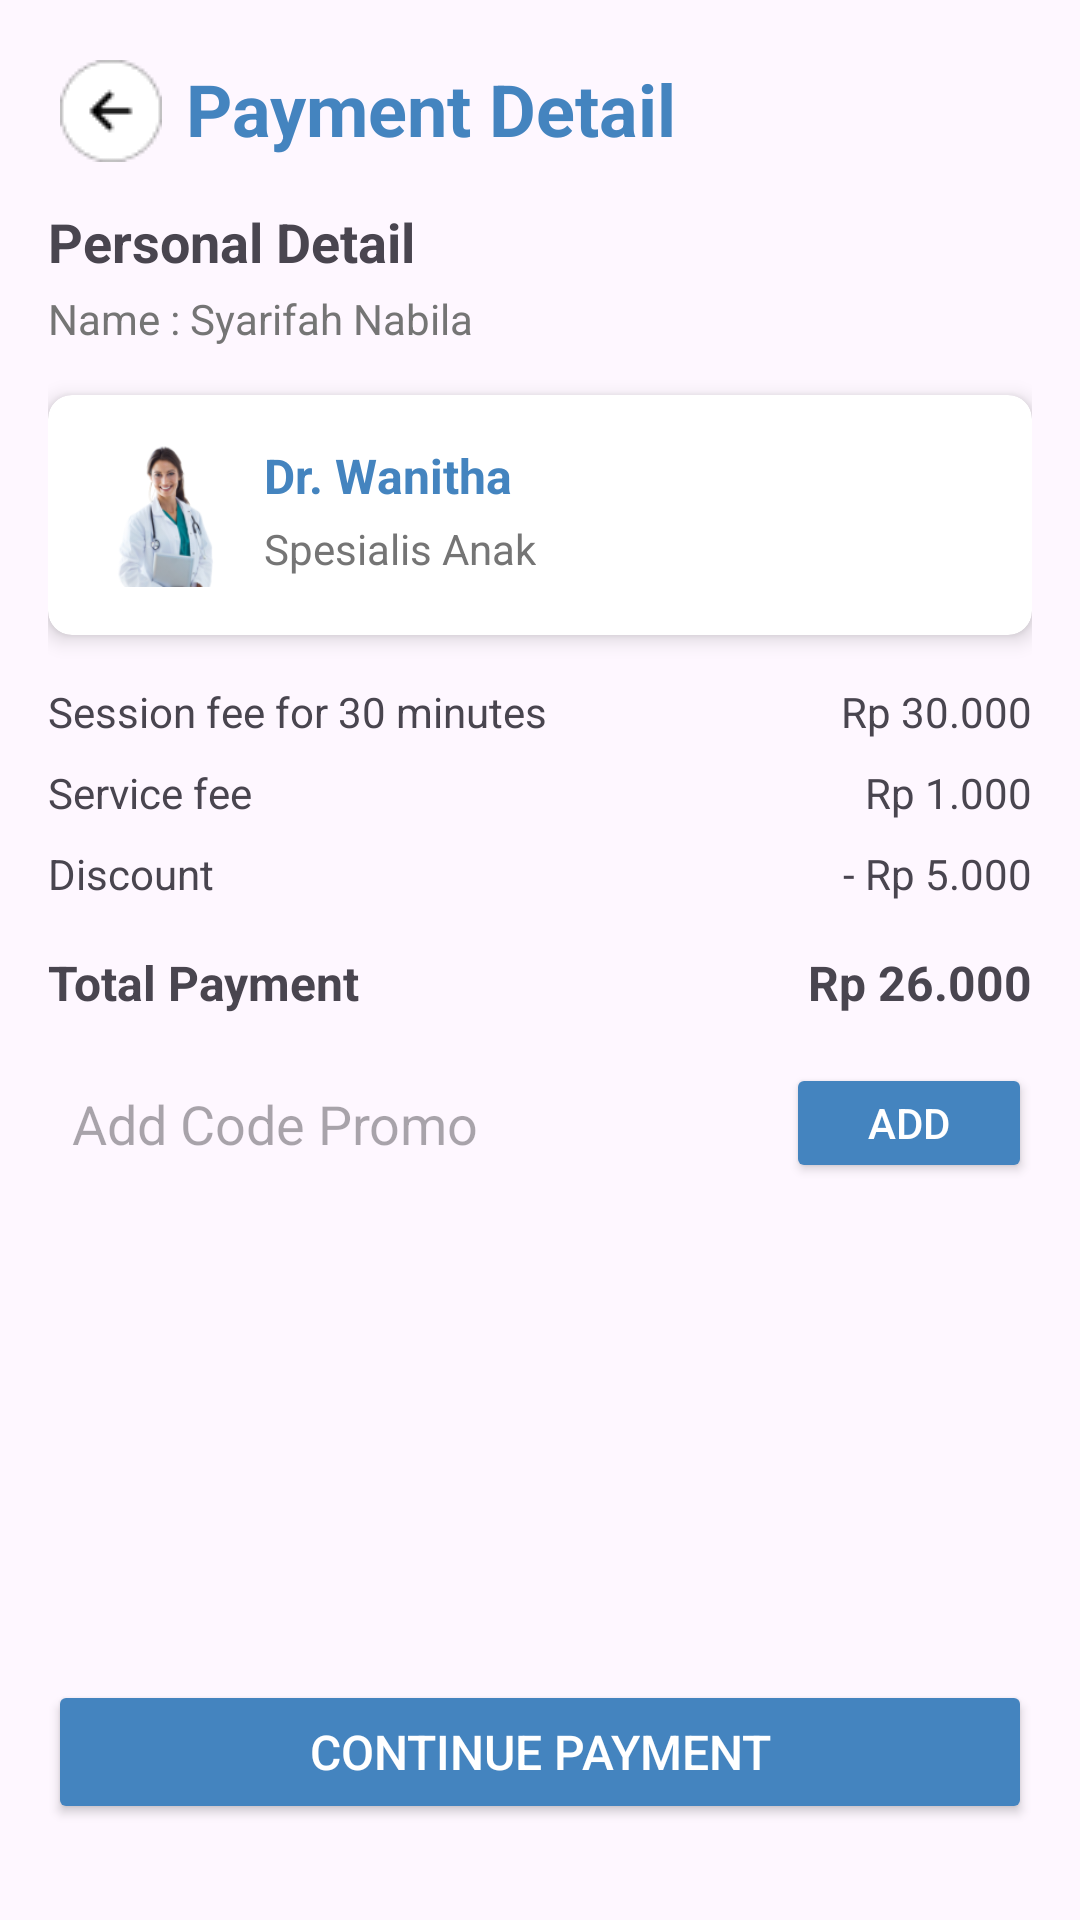

Icon click points for this 1080×1920 phone screenshot, format (x=x, y=y):
Back Icon: (x=111, y=111)
doctor: (x=166, y=516)
